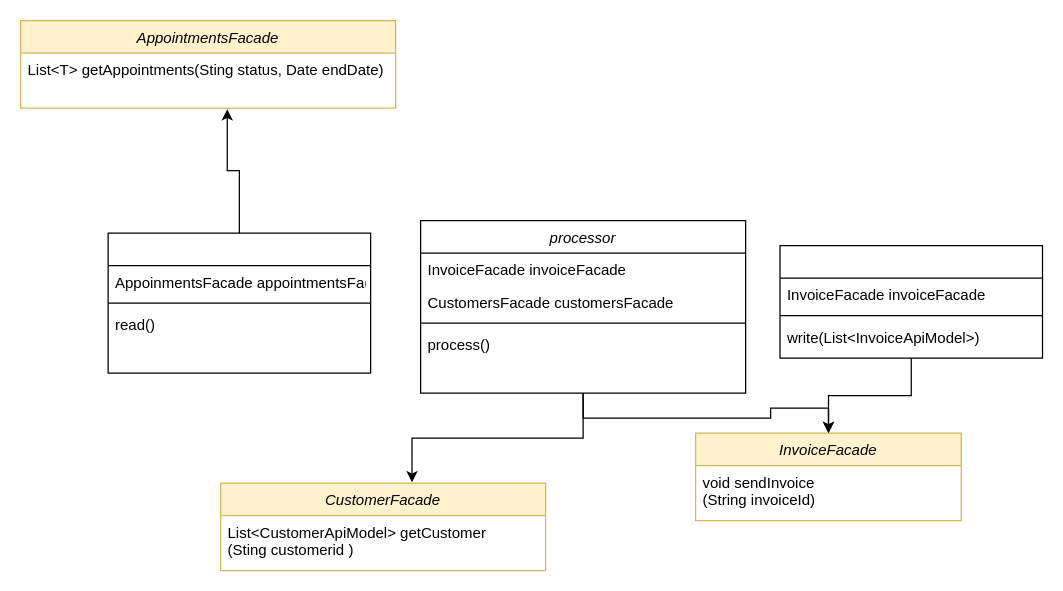
Some shapes in this 1063 by 591 pixel diagram are drawn without their labels. Here are the shapes that lost their labels. From the top down, the box of each, then its label:
(107, 232, 371, 373): Reader
(779, 244, 1042, 358): writer
